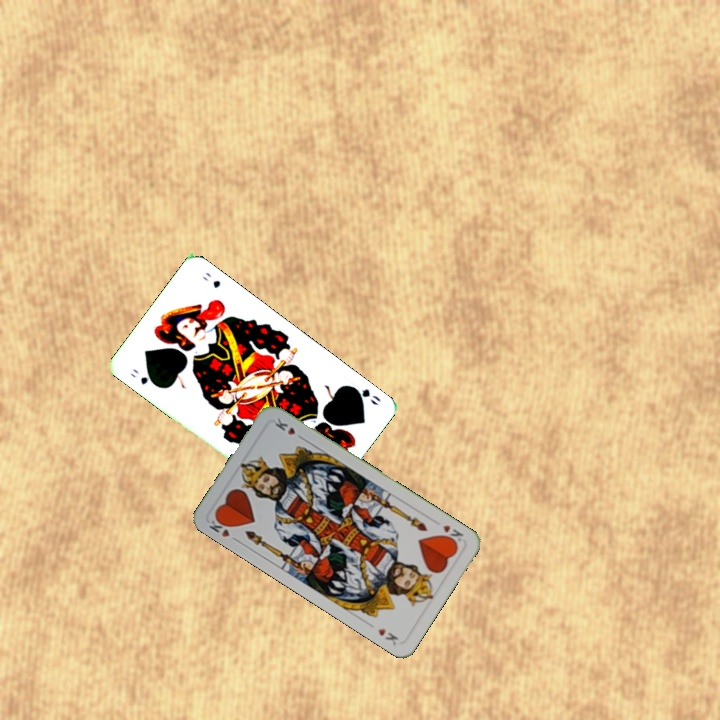GO: (346, 381, 384, 408), (126, 364, 160, 389)
HK: (205, 512, 241, 545), (438, 521, 466, 547)
